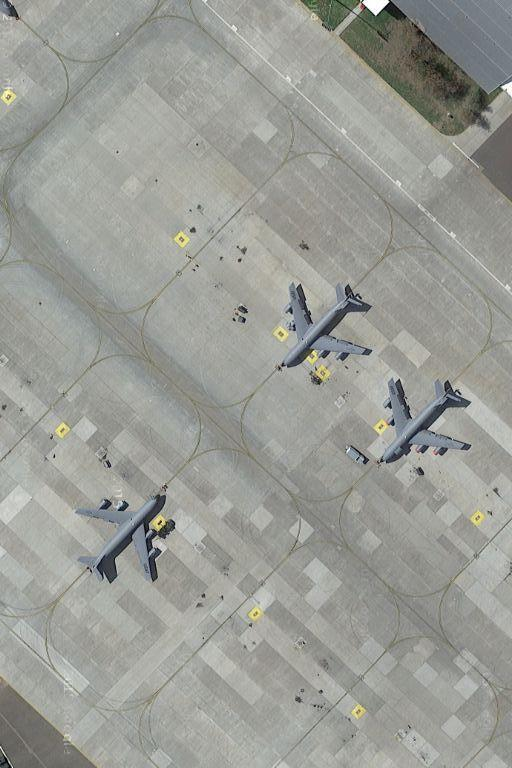KC-135: (275, 278, 371, 376), (372, 376, 472, 469), (75, 488, 166, 584)
